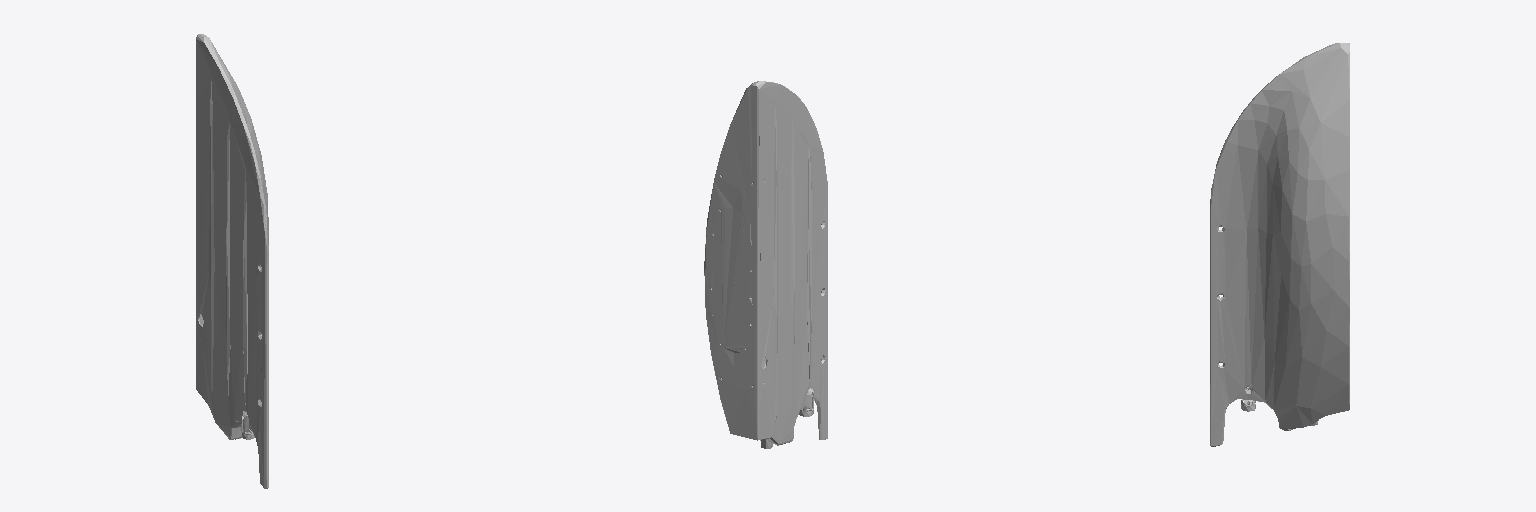
The model's file is left.obj.
3 views of the same model, side by side, from view 1: azimuth 30°, elevation 25°; view 2: azimuth 150°, elevation 25°; view 3: azimuth 270°, elevation 25° (orthographic).
Visible parts, largest first — view 1: Left_side.002; view 2: Left_side.002; view 3: Left_side.002.
Part boxes in pixels (x1,y1,x2,y2): Left_side.002: (196,34,268,488); Left_side.002: (704,81,827,448); Left_side.002: (1210,43,1349,446).
Size of the model in its own units: 0.1719 by 1.14 by 0.3588.